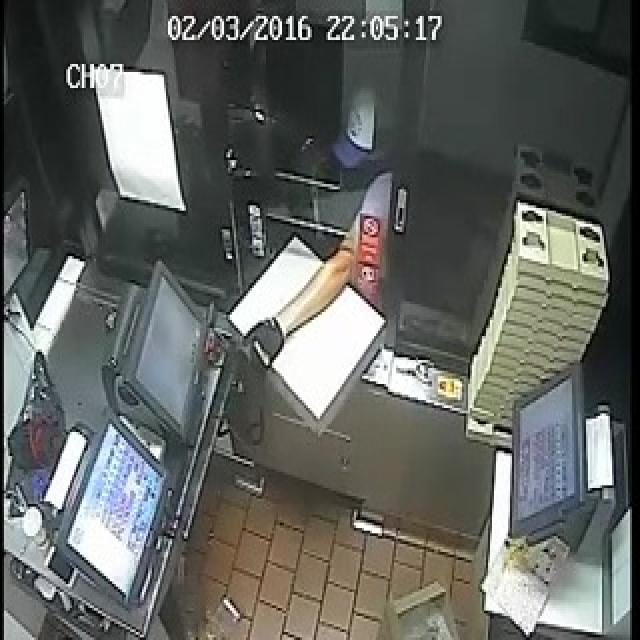thief: (274, 71, 418, 263)
